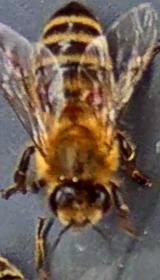varroa_mite: (70, 78, 112, 111)
